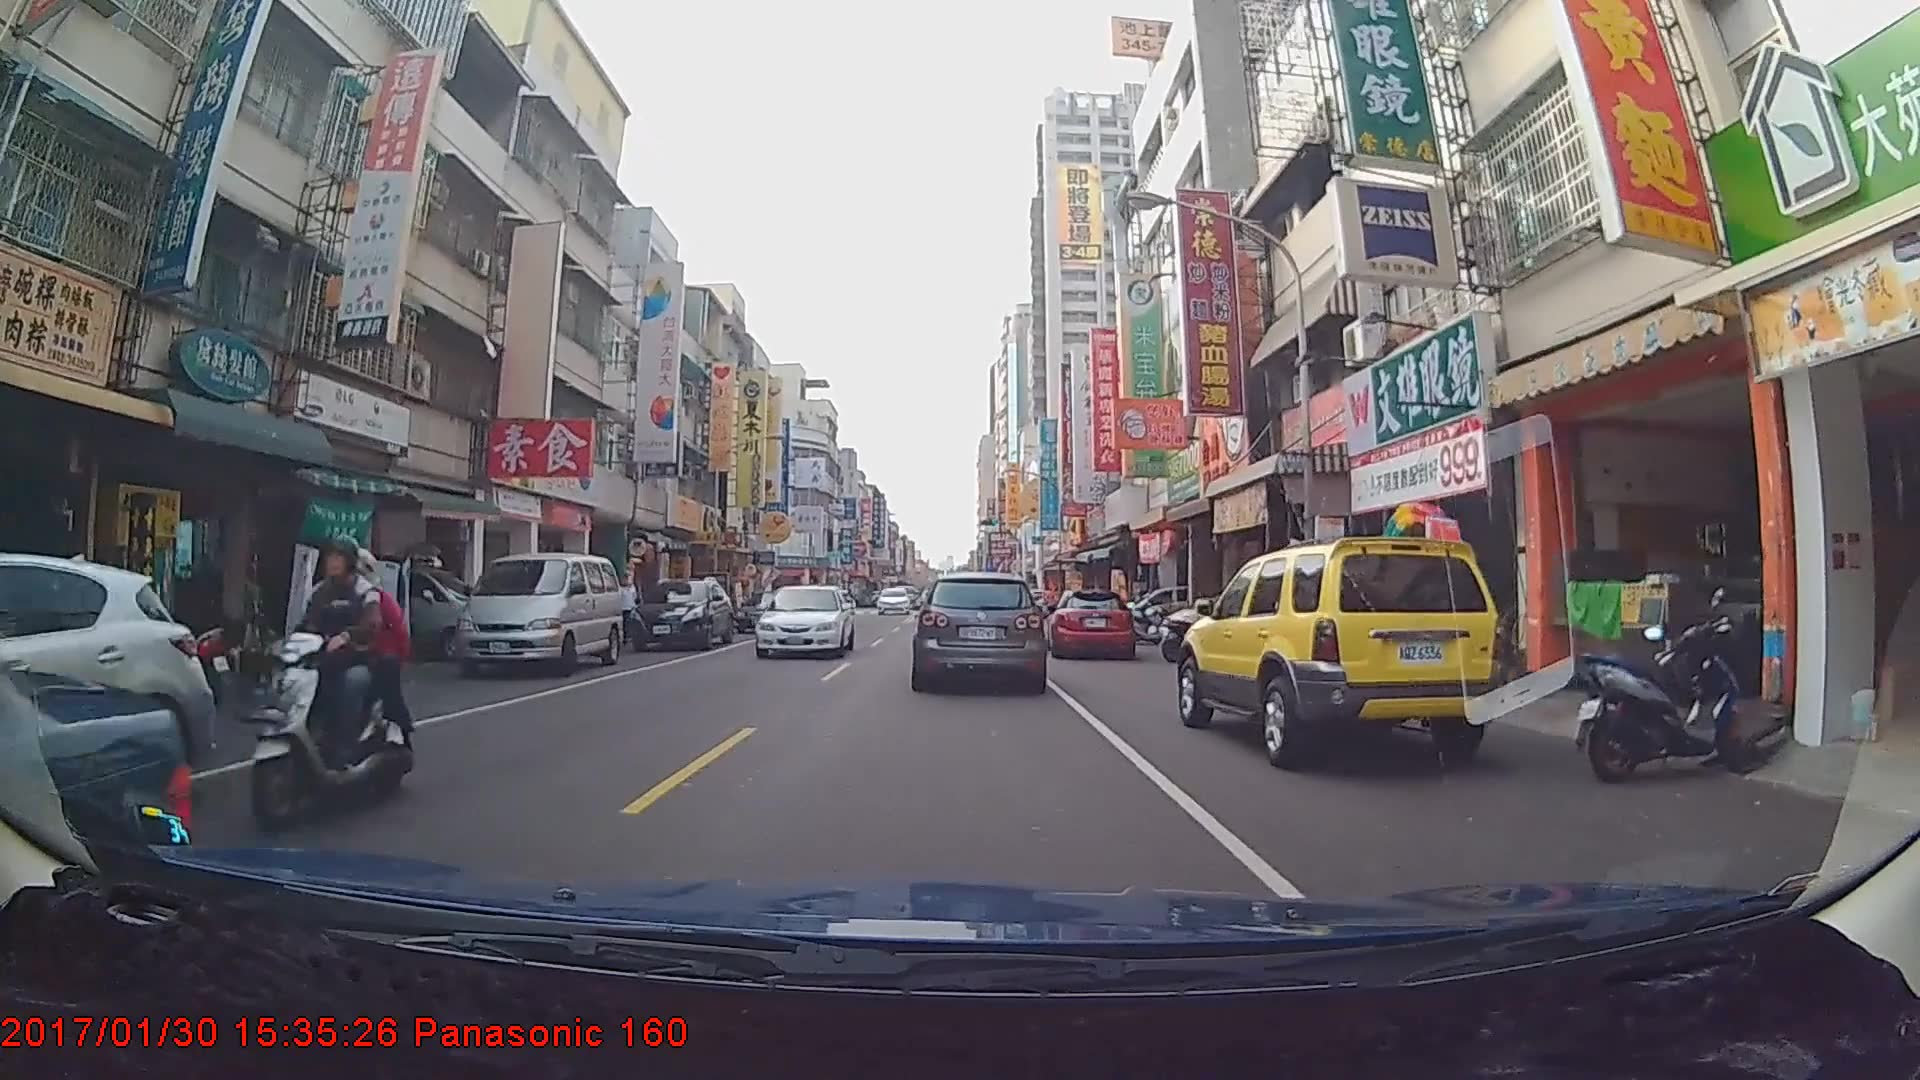rider: (238, 524, 420, 828)
vehicle: (1, 530, 194, 1019), (1181, 532, 1504, 762), (0, 548, 218, 828), (454, 552, 621, 677), (913, 571, 1045, 689), (626, 577, 734, 650), (756, 585, 854, 660), (1044, 589, 1136, 661), (736, 589, 801, 633), (877, 587, 911, 616)
